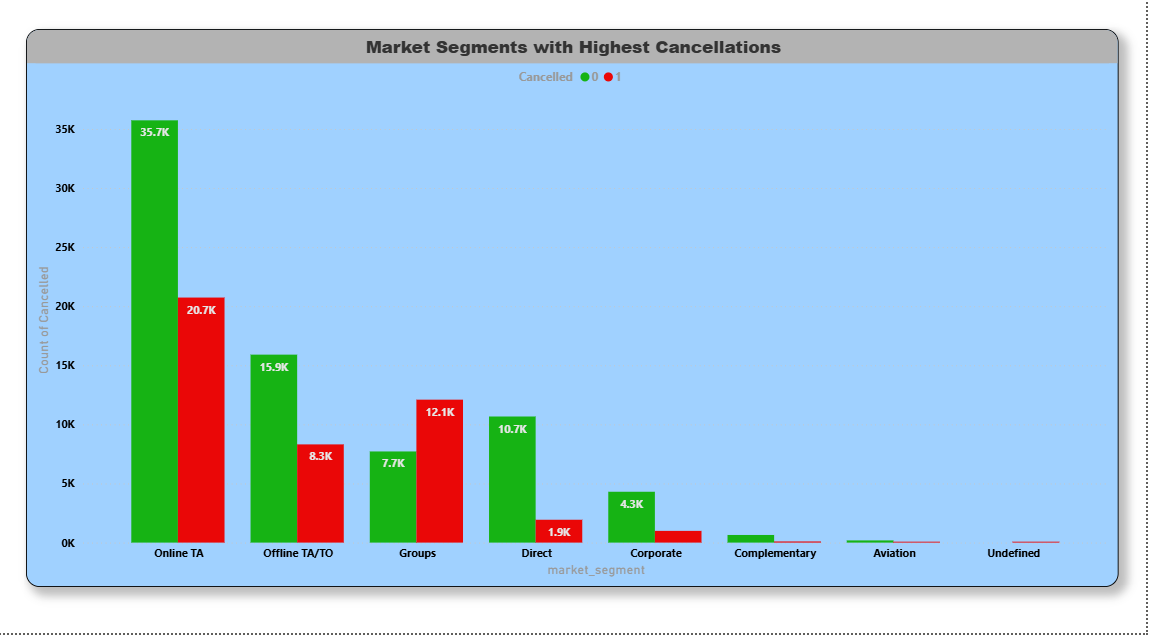

The page's visual inventory and layout, read from the dashboard file:
{"tool":"powerbi","page":{"name":"Market Segment Insights","canvas":[1280,720],"ordinal":2},"visuals":[{"type":"clusteredColumnChart","title":"Market Segments with Highest Cancellations","fields":{"Category":["hotel_bookings.market_segment"],"Y":["CountNonNull(hotel_bookings.Cancelled)"],"Series":["hotel_bookings.Cancelled"]},"box":[35.6,48.9,1214.4,620],"z":0}]}

Visuals, with their boxes in screenshot pixels (x1, y1, x2, y2), scaled from the page's 1280x720 canvas onto the 1167x639 screenshot:
"Market Segments with Highest Cancellations" clusteredColumnChart: bbox=(32, 43, 1140, 594)
